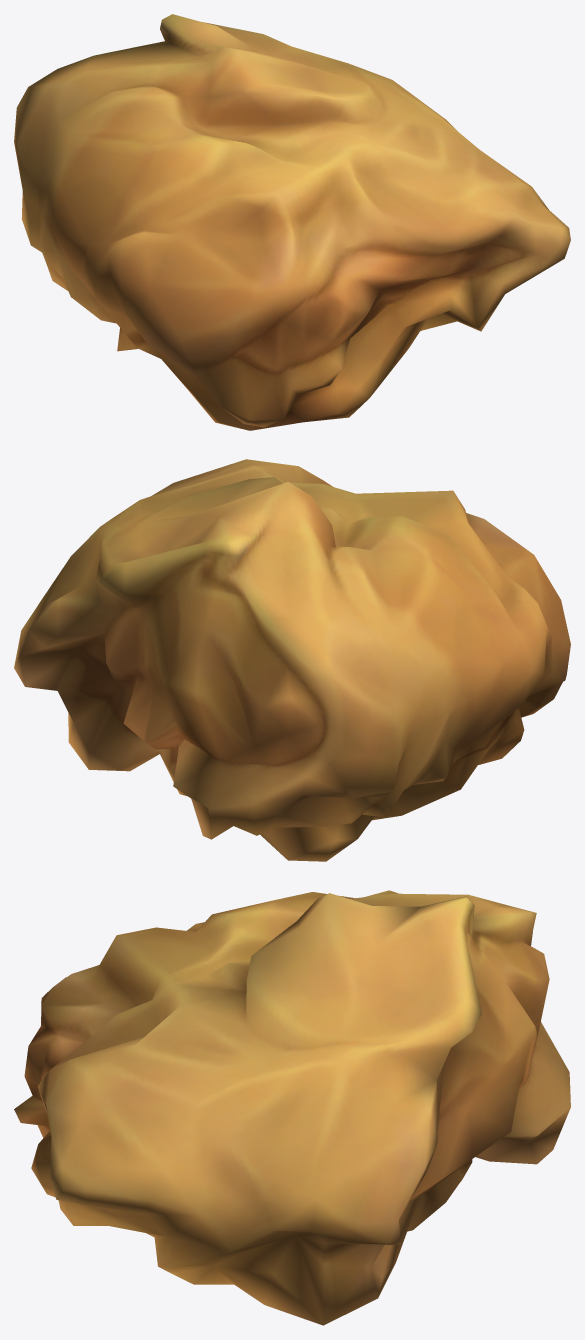
File: SM_FastFoodBagCrumpled.glb
The picture shows the model from 3 angles, top to bottom: view 1: azimuth 30°, elevation 25°; view 2: azimuth 150°, elevation 25°; view 3: azimuth 270°, elevation 25°; orthographic projection. The views are drawn at different scales.
Visible parts, largest first — view 1: SM_FastFoodBagCrumpled; view 2: SM_FastFoodBagCrumpled; view 3: SM_FastFoodBagCrumpled.
Part boxes in pixels (x1=…): SM_FastFoodBagCrumpled: x1=14, y1=14, x2=570, y2=430; SM_FastFoodBagCrumpled: x1=14, y1=459, x2=570, y2=861; SM_FastFoodBagCrumpled: x1=14, y1=890, x2=570, y2=1325.
Size of the model in its own units: 0.1626 by 0.1049 by 0.1643.
Materials: 1 (1 with a texture image).
